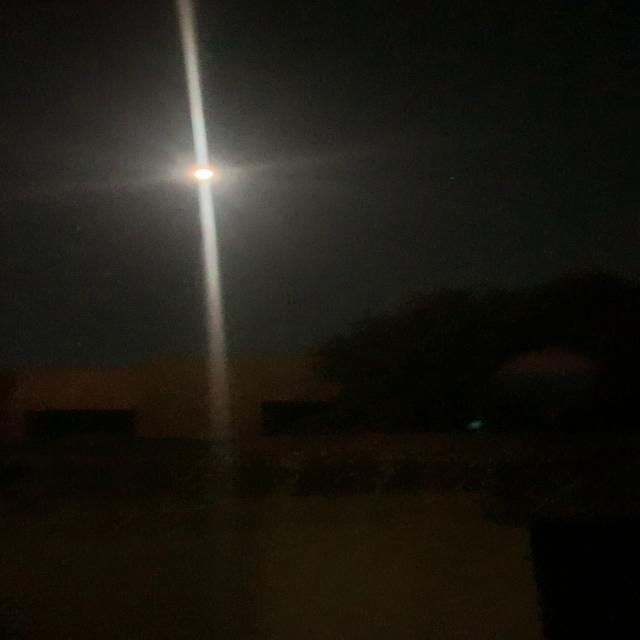moon: (320, 314, 338, 324)
